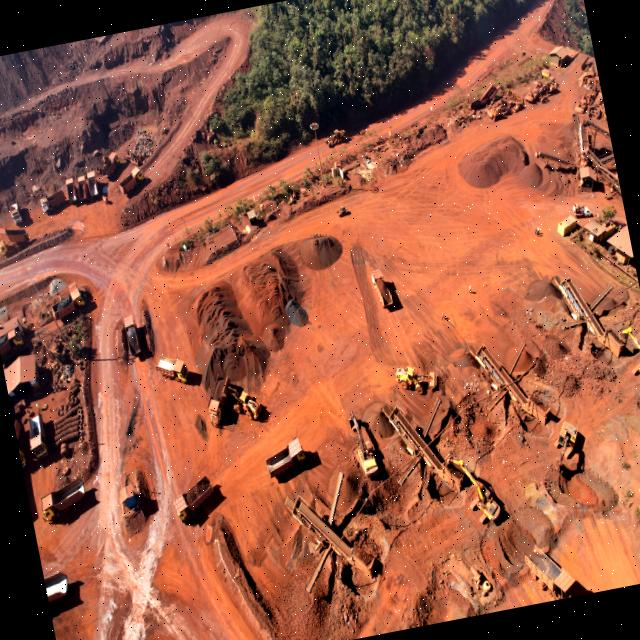Dumper truck: (170, 476, 220, 526), (38, 480, 96, 523), (534, 554, 584, 602), (262, 436, 312, 482), (17, 410, 47, 464), (50, 285, 93, 320), (44, 570, 75, 615), (369, 268, 396, 312), (156, 354, 190, 388), (121, 314, 145, 358), (205, 390, 232, 426), (12, 411, 29, 468), (0, 327, 29, 359), (118, 167, 144, 196), (73, 173, 97, 201), (41, 190, 68, 212), (102, 154, 124, 179), (556, 216, 578, 237), (6, 228, 28, 248), (572, 202, 594, 220), (63, 178, 79, 202), (10, 204, 26, 227)
Excavator: (348, 412, 386, 481), (551, 419, 589, 476), (469, 480, 504, 527), (614, 325, 640, 356), (632, 348, 640, 388)
person: (468, 284, 473, 294), (441, 310, 446, 320), (534, 227, 538, 234), (536, 226, 540, 233)
